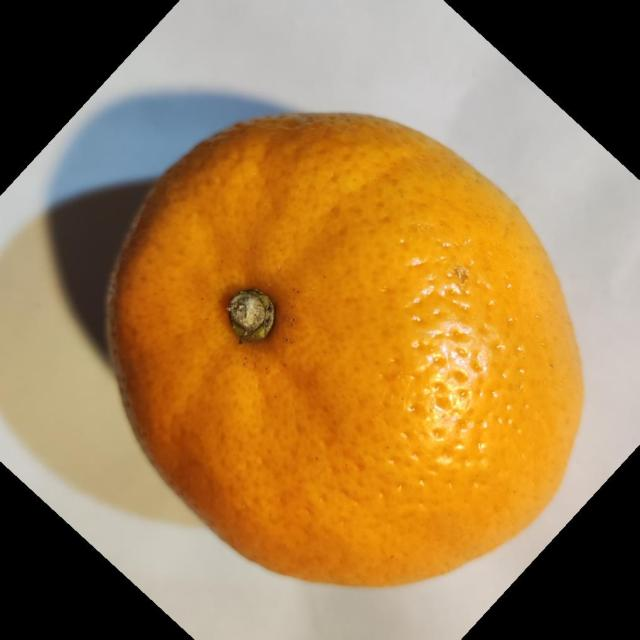fresh orange: (104, 109, 586, 588)
